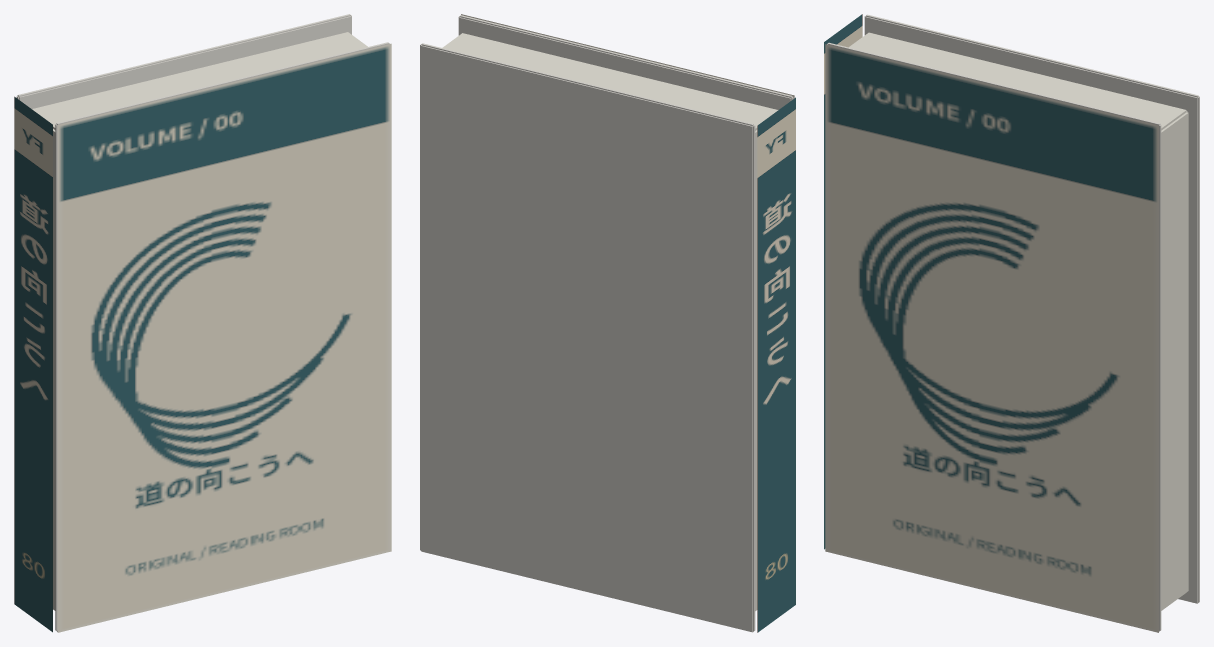
File: sku_v23_book_0_B.glb
3 views of the same model, side by side, from view 1: azimuth 30°, elevation 25°; view 2: azimuth 150°, elevation 25°; view 3: azimuth 330°, elevation 25° (orthographic).
Visible parts, largest first — view 1: sku_v23_book_0_B_V23_original_companions, sku_v23_book_0_B_V23_printed_genre_spines, sku_v23_book_0_B_Warm_white_coating, sku_v23_book_0_B_Paper_page_edges; view 2: sku_v23_book_0_B_Warm_white_coating, sku_v23_book_0_B_V23_printed_genre_spines, sku_v23_book_0_B_Paper_page_edges, sku_v23_book_0_B_V23_original_companions; view 3: sku_v23_book_0_B_V23_original_companions, sku_v23_book_0_B_Paper_page_edges, sku_v23_book_0_B_Warm_white_coating, sku_v23_book_0_B_V23_printed_genre_spines.
Part boxes in pixels (x1,y1,x2,y2): sku_v23_book_0_B_V23_original_companions: (57,43,391,632); sku_v23_book_0_B_V23_printed_genre_spines: (14,96,52,632); sku_v23_book_0_B_Warm_white_coating: (16,14,389,631); sku_v23_book_0_B_Paper_page_edges: (32,32,367,610); sku_v23_book_0_B_Warm_white_coating: (420,15,793,632); sku_v23_book_0_B_V23_printed_genre_spines: (757,97,795,632); sku_v23_book_0_B_Paper_page_edges: (442,33,778,610); sku_v23_book_0_B_V23_original_companions: (461,14,794,98); sku_v23_book_0_B_V23_original_companions: (825,44,1158,632); sku_v23_book_0_B_Paper_page_edges: (849,32,1188,610); sku_v23_book_0_B_Warm_white_coating: (827,14,1199,631); sku_v23_book_0_B_V23_printed_genre_spines: (824,14,862,549).
Bounding box in the file's own units: 0.1134 × 0.1632 × 0.0241.
4 materials, 2 textured.
